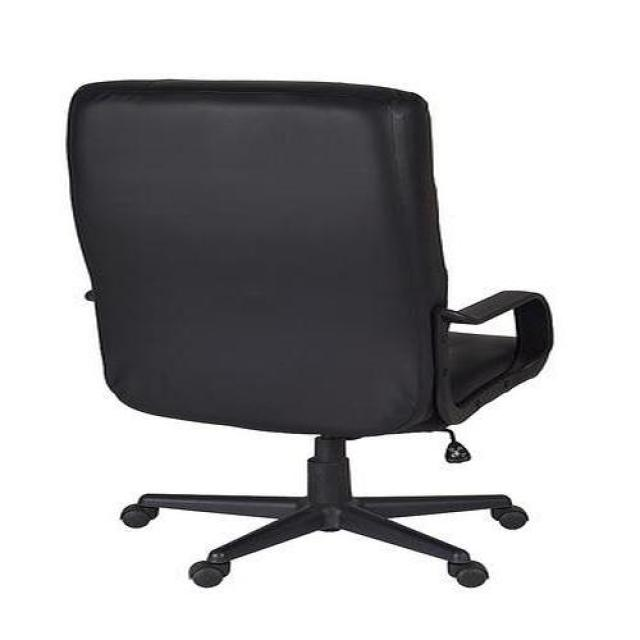swivelchair: (65, 79, 556, 593)
